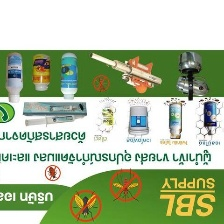insecticide: (3, 49, 24, 105), (20, 101, 87, 118), (58, 50, 80, 101), (31, 52, 54, 91), (126, 102, 151, 136), (21, 113, 84, 126), (200, 100, 218, 136), (166, 103, 185, 136), (101, 104, 119, 128)
